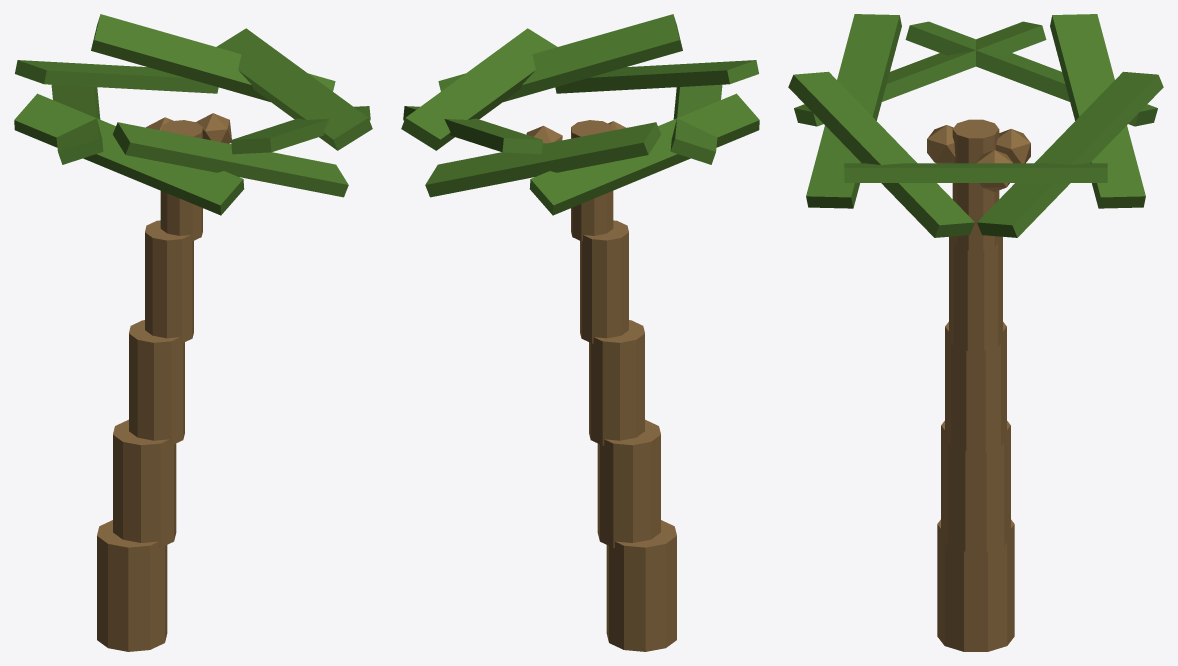
File: palm.glb
3 renders of one model, left to right at view 1: azimuth 30°, elevation 25°; view 2: azimuth 150°, elevation 25°; view 3: azimuth 270°, elevation 25°, orthographic. The views are drawn at different scales.
Parts seen in each view (by area): view 1: trunk; view 2: trunk; view 3: trunk.
Part boxes in pixels (left/top/right/bottom): trunk: left=14, top=14, right=372, bottom=651; trunk: left=401, top=14, right=759, bottom=651; trunk: left=788, top=14, right=1163, bottom=651.
Size of the model in its own units: 0.5079 by 0.8477 by 0.4847.
